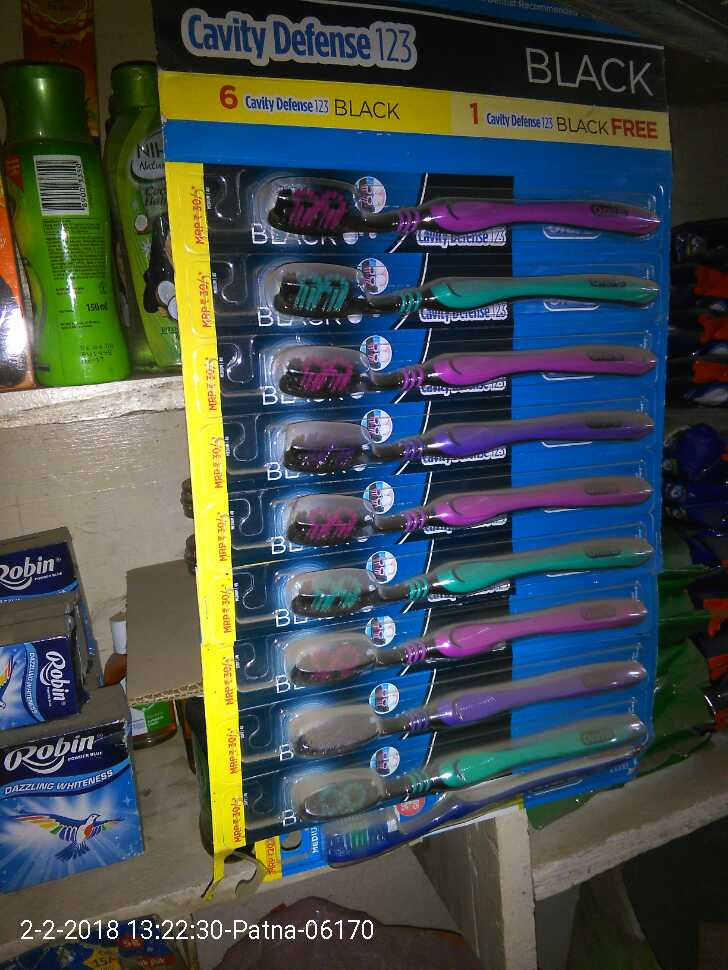oralb: (258, 186, 658, 814)
